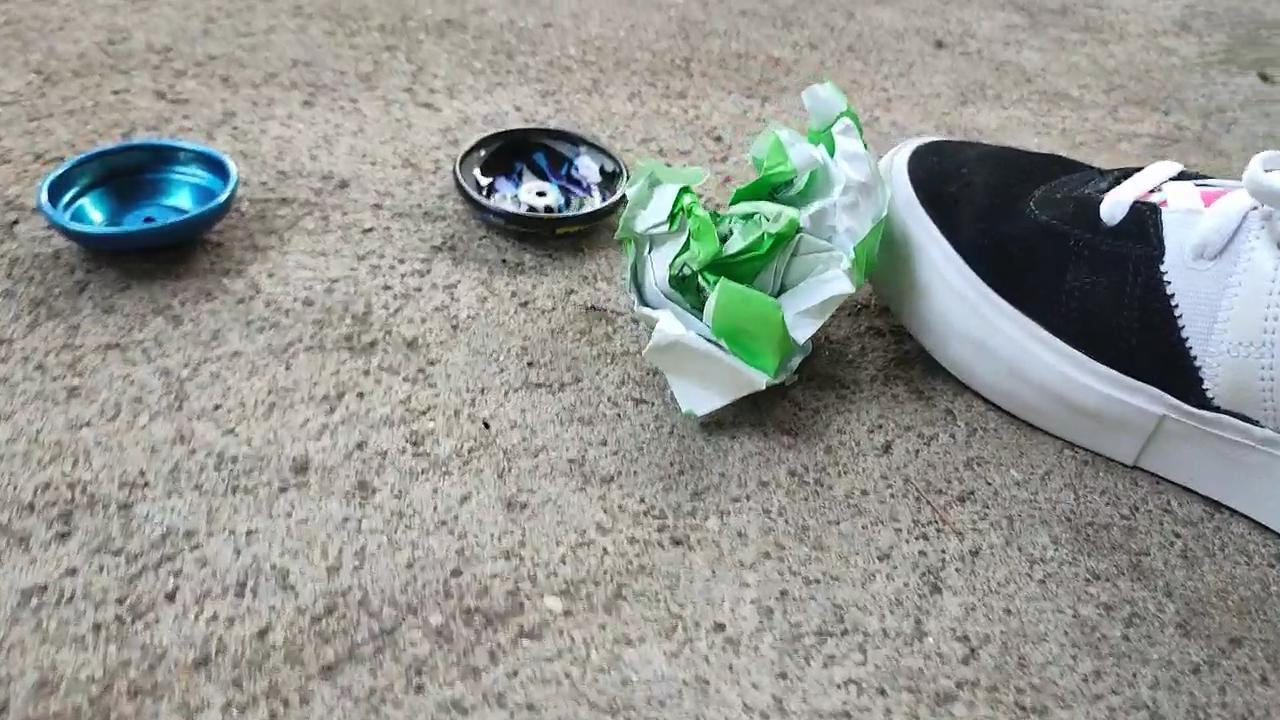Paper: (611, 52, 901, 430)
